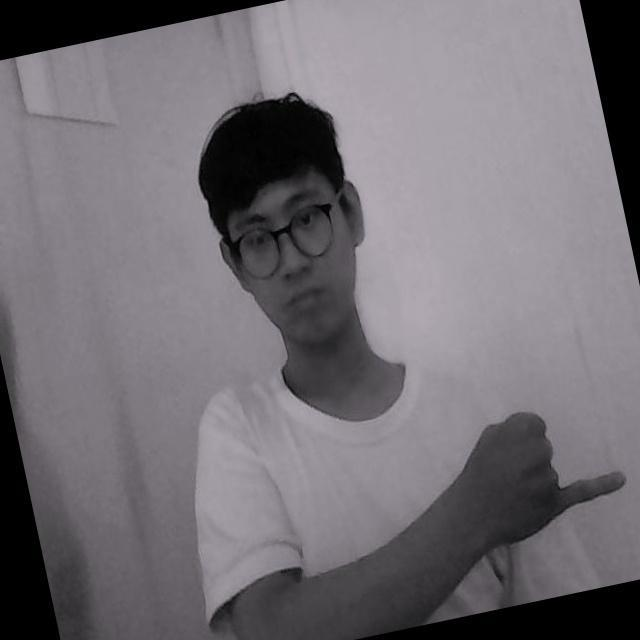J: (433, 398, 640, 558)
